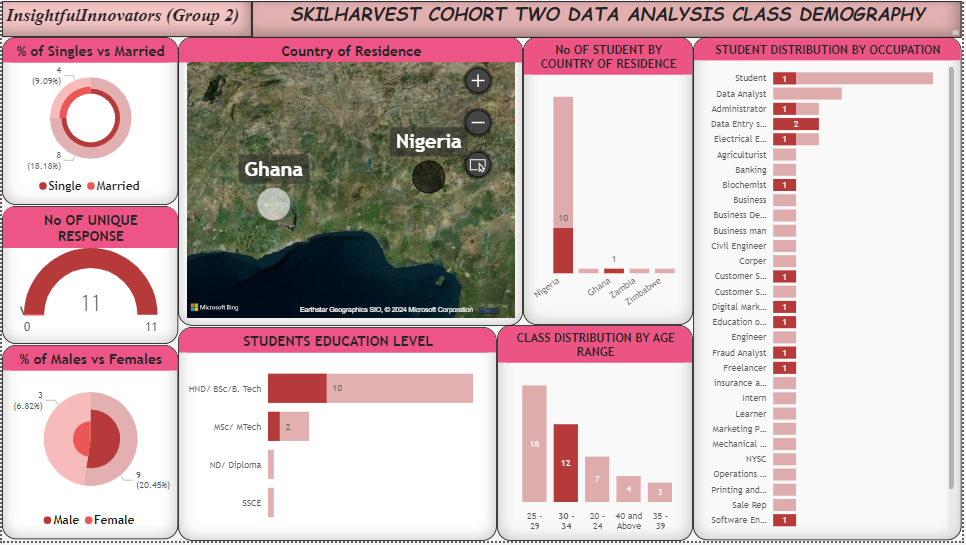

Layout of this report page (visuals, bound fields, positions):
{"tool":"powerbi","page":{"name":"Page 1","canvas":[1280,720],"ordinal":0},"visuals":[{"type":"map","fields":{"Category":["Form Responses 1.Country of Residence"]},"box":[234.7,48,460,385.3],"z":1000},{"type":"pieChart","title":"% of Males vs Females","fields":{"Category":["Form Responses 1.Gender"],"Y":["CountNonNull(Form Responses 1.Gender)"]},"box":[0,458.7,234.7,258.7],"z":2000},{"type":"donutChart","title":"% of Singles vs Married","fields":{"Y":["CountNonNull(Form Responses 1.Marital Status)"],"Category":["Form Responses 1.Marital Status"]},"box":[0,48,234.7,224],"z":3000},{"type":"textbox","title":"SKILHARVEST COHORT TWO DATA ANALYSIS CLASS DEMOGRAPHY","box":[333.9,0,946.1,48.5],"z":4000},{"type":"textbox","box":[0,0,333.3,48],"z":5000},{"type":"clusteredColumnChart","title":"CLASS DISTRIBUTION BY AGE RANGE","fields":{"Category":["Form Responses 1.Age Range"],"Y":["CountNonNull(Form Responses 1.Age Range)"]},"box":[660,432,261.3,288],"z":6000},{"type":"gauge","title":"No OF UNIQUE RESPONSE","fields":{"Y":["Count(Form Responses 1.Names)"],"MaxValue":["Count(Form Responses 1.Names)"]},"box":[0,273.3,234.7,184],"z":7000},{"type":"clusteredBarChart","title":"STUDENTS EDUCATION LEVEL","fields":{"Category":["Form Responses 1.Highest level of Education"],"Y":["CountNonNull(Form Responses 1.Highest level of Education)"]},"box":[234.7,434.7,425.3,285.3],"z":8000},{"type":"clusteredBarChart","title":"STUDENT DISTRIBUTION BY OCCUPATION","fields":{"Category":["Form Responses 1.Occupation"],"Y":["CountNonNull(Form Responses 1.Occupation)"]},"box":[921.8,48.5,358.2,670.7],"z":9000},{"type":"clusteredColumnChart","title":"No OF STUDENT BY COUNTRY OF RESIDENCE","fields":{"Category":["Form Responses 1.Country of Residence"],"Y":["Count(Form Responses 1.Names)"]},"box":[694.7,48,226.7,384],"z":9001}]}

Visuals, with their boxes in screenshot pixels (x1, y1, x2, y2), scaled from the page's 1280x720 canvas onto the 966x545 screenshot:
map - Form Responses 1.Country of Residence: region(177, 36, 524, 328)
"% of Males vs Females" pieChart: region(0, 347, 177, 543)
"% of Singles vs Married" donutChart: region(0, 36, 177, 206)
"SKILHARVEST COHORT TWO DATA ANALYSIS CLASS DEMOGRAPHY" textbox: region(252, 0, 965, 37)
textbox: region(0, 0, 252, 36)
"CLASS DISTRIBUTION BY AGE RANGE" clusteredColumnChart: region(498, 327, 695, 544)
"No OF UNIQUE RESPONSE" gauge: region(0, 207, 177, 346)
"STUDENTS EDUCATION LEVEL" clusteredBarChart: region(177, 329, 498, 544)
"STUDENT DISTRIBUTION BY OCCUPATION" clusteredBarChart: region(696, 37, 965, 544)
"No OF STUDENT BY COUNTRY OF RESIDENCE" clusteredColumnChart: region(524, 36, 695, 327)
